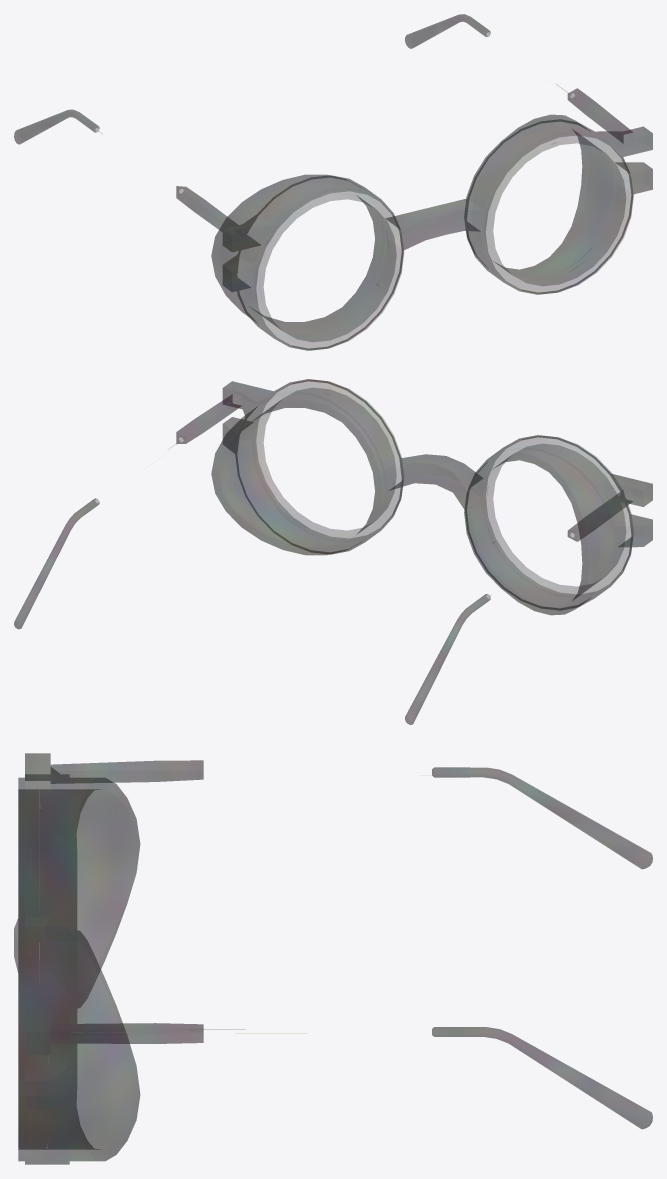
3 views of the same model, one above another, from view 1: azimuth 30°, elevation 25°; view 2: azimuth 150°, elevation 25°; view 3: azimuth 270°, elevation 25° (orthographic). The views are drawn at different scales.
Parts seen in each view (by area): view 1: Glasses0002.001, Glasses0003.001; view 2: Glasses0002.001, Glasses0003.001; view 3: Glasses0002.001, Glasses0003.001.
Boxes of the visible parts, box(x1,y1,x2,y2) form: Glasses0002.001: box(176, 88, 652, 350); Glasses0003.001: box(14, 14, 490, 144); Glasses0002.001: box(176, 379, 652, 615); Glasses0003.001: box(14, 498, 490, 724); Glasses0002.001: box(14, 753, 203, 1164); Glasses0003.001: box(432, 767, 652, 1129).
Size of the model in its own units: 2.1 by 0.7594 by 2.03.
Materials: 1 (1 with a texture image).
